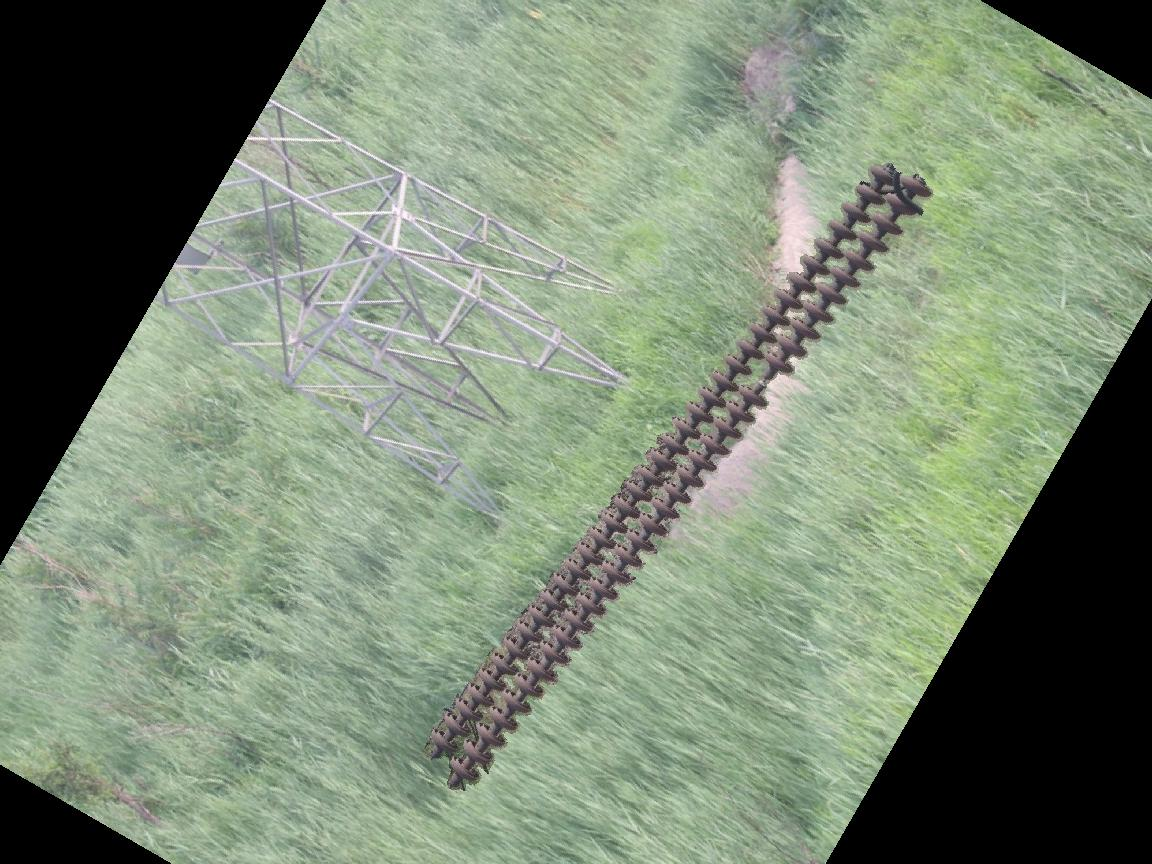insulator: (422, 157, 934, 795)
insulator_stringdrop: (737, 352, 793, 412)
